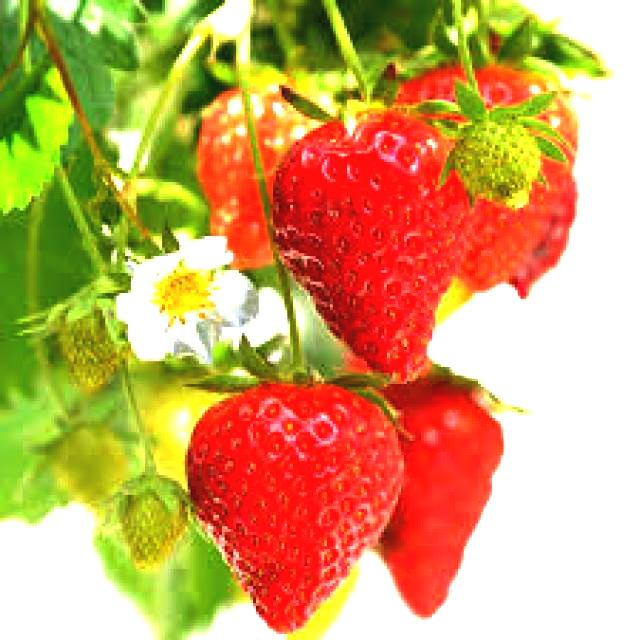ripe: (180, 373, 404, 634), (264, 100, 464, 378), (378, 56, 588, 298), (364, 364, 514, 617), (185, 61, 324, 286), (508, 159, 603, 305)
unripe: (444, 98, 558, 218), (42, 290, 156, 396), (101, 466, 192, 572)
